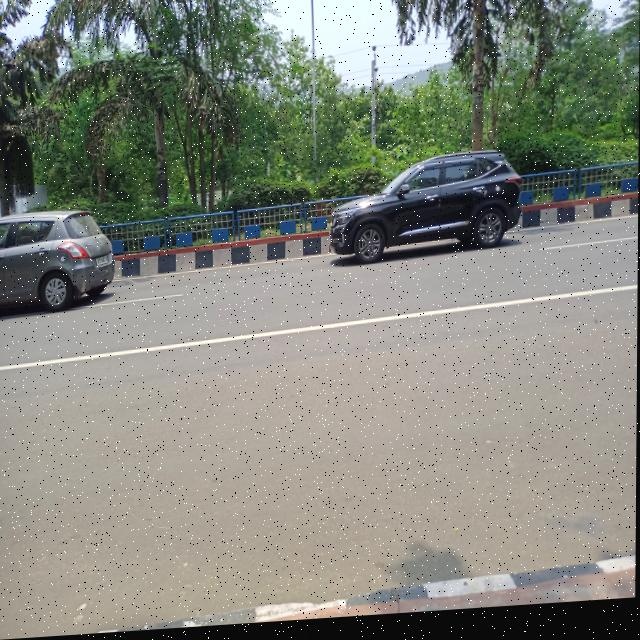car: (324, 136, 534, 278), (0, 194, 121, 309)
